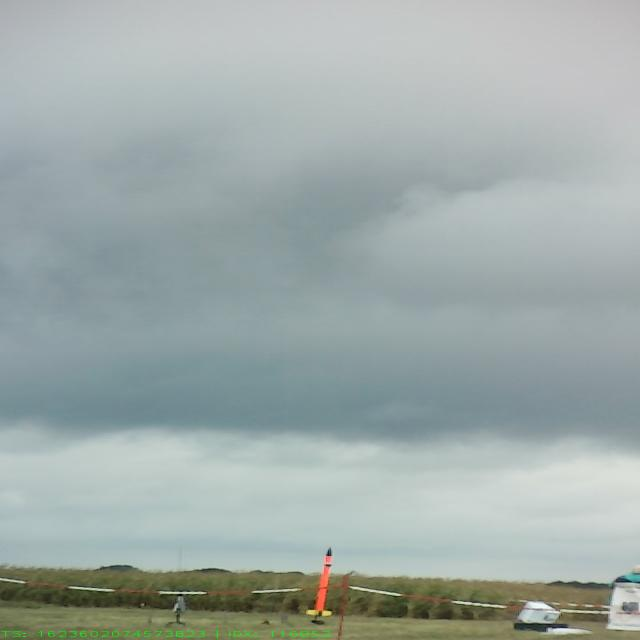Rocket: (304, 546, 334, 618), (170, 590, 188, 612)
